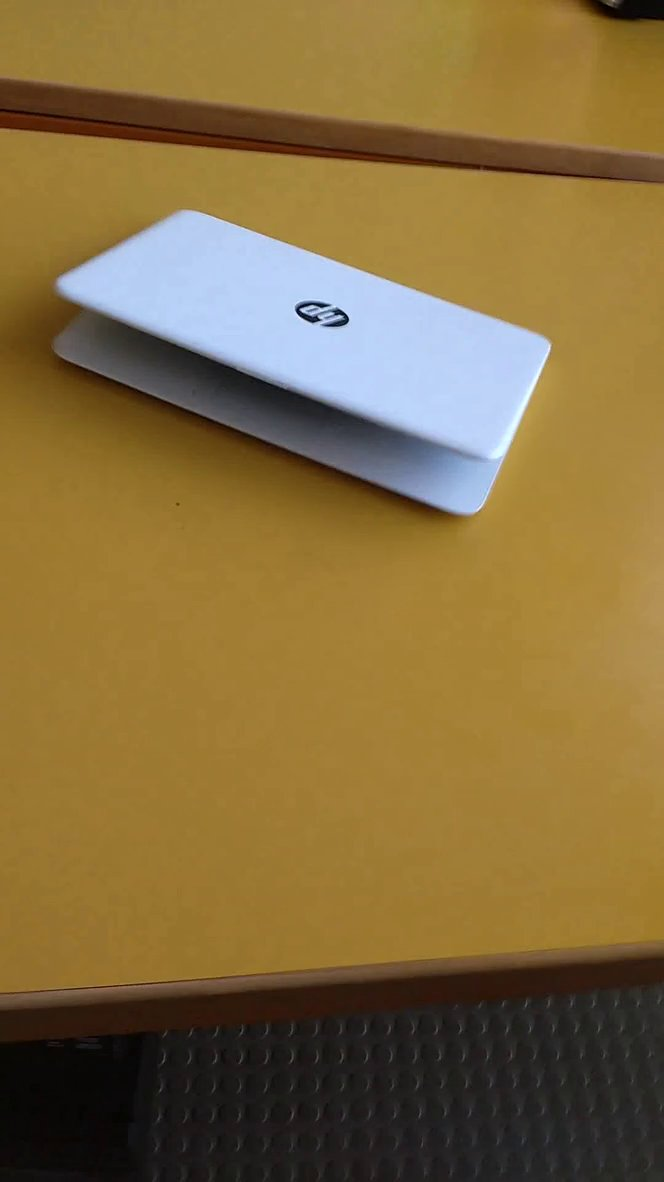laptop: (36, 173, 568, 550)
